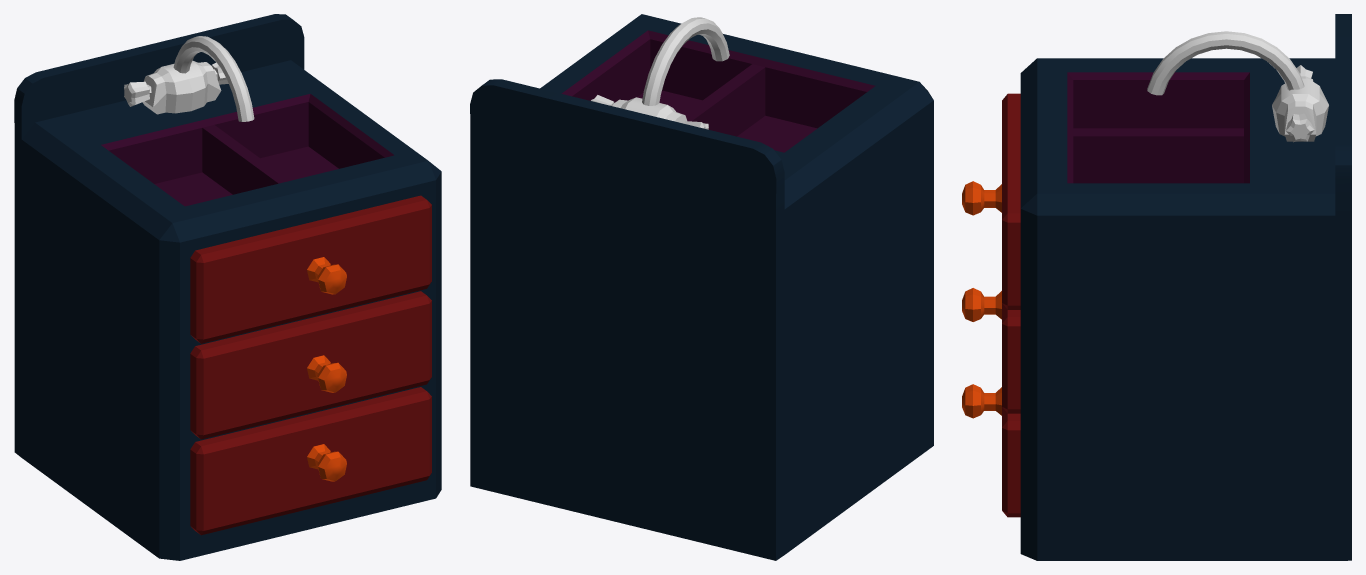
File: Mesh_lavabo_001.fbx
The picture shows the model from 3 angles, left to right: view 1: azimuth 30°, elevation 25°; view 2: azimuth 150°, elevation 25°; view 3: azimuth 270°, elevation 25°; orthographic projection. The views are drawn at different scales.
Visible parts, largest first — view 1: Mesh_Lavabo_001, Mesh_Robinet_001, Mesh_Poignee_002; view 2: Mesh_Lavabo_001, Mesh_Robinet_001; view 3: Mesh_Lavabo_001, Mesh_Robinet_001, Mesh_Poignee_001.
Part boxes in pixels (x1,y1,x2,y2): Mesh_Lavabo_001: (14, 14, 441, 560); Mesh_Robinet_001: (142, 36, 254, 121); Mesh_Poignee_002: (124, 81, 151, 106); Mesh_Lavabo_001: (470, 14, 933, 560); Mesh_Robinet_001: (612, 17, 729, 123); Mesh_Lavabo_001: (962, 14, 1351, 560); Mesh_Robinet_001: (1147, 31, 1328, 141); Mesh_Poignee_001: (1286, 113, 1314, 142).
Bounding box in the file's own units: 80.07 × 113 × 88.25.
